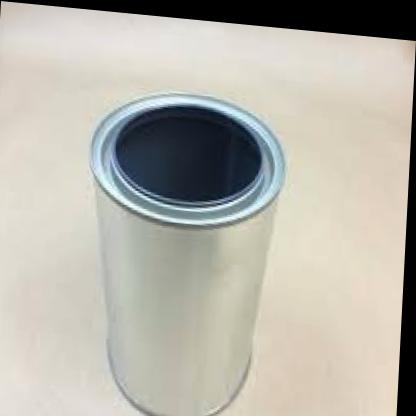trash: (91, 93, 284, 415)
